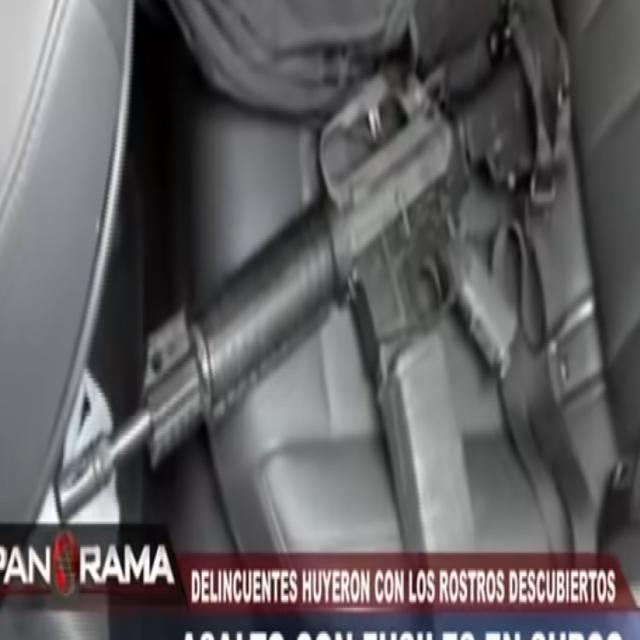Rifle: (51, 43, 543, 533)
